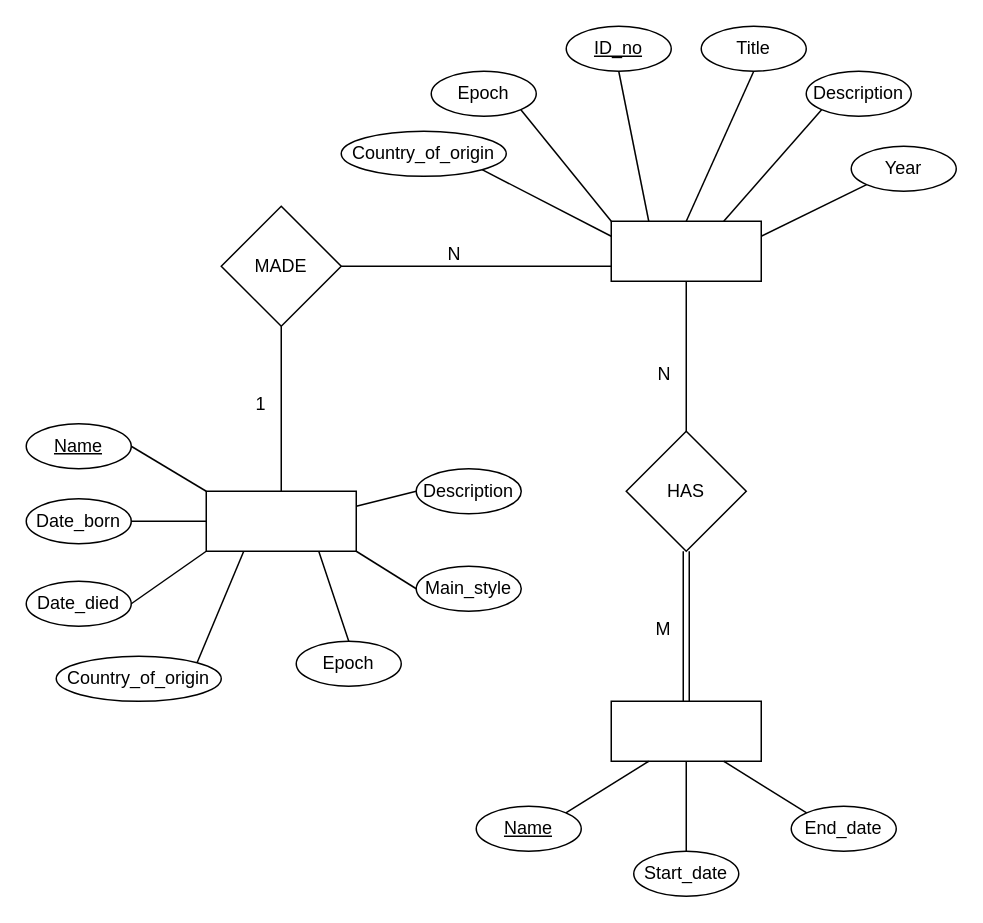
The diagram is 983 pixels wide and 923 high, and some of its shapes have lost their labels. Here are the shapes that lost their labels. From the top down, the box of each, then its label:
(610, 220, 761, 281): ART_OBJECT
(205, 490, 356, 551): ARTIST
(610, 700, 761, 761): EXHIBITION
